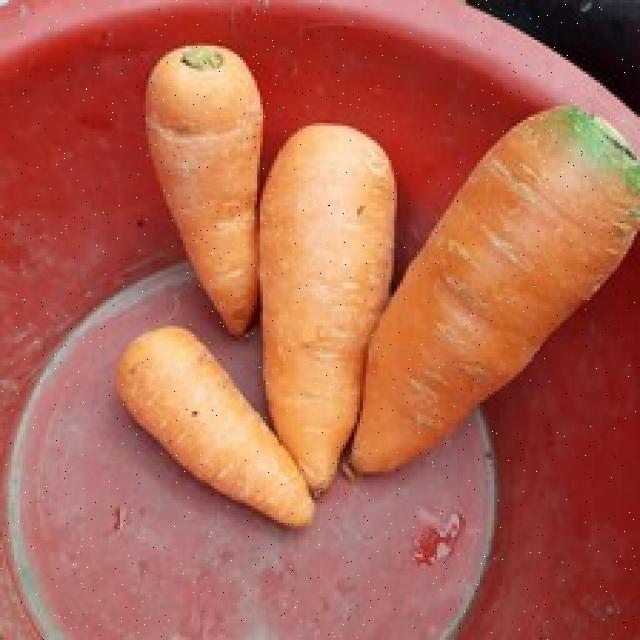carrot: (351, 106, 640, 472), (259, 124, 396, 491), (116, 326, 314, 526), (149, 46, 262, 335)
